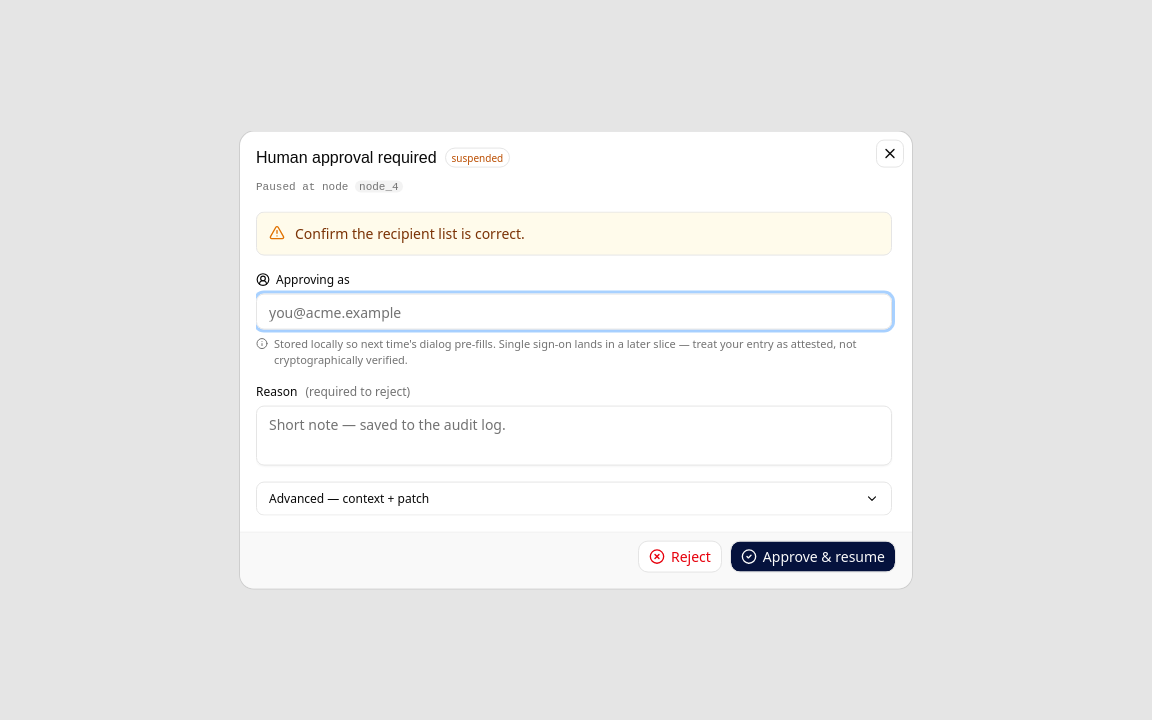
Scenario: HITLResumeDialog › blocks approve with an empty approver + inline error
Click the button "Approve & resume".
click(813, 556)  # box [730, 540, 896, 572]
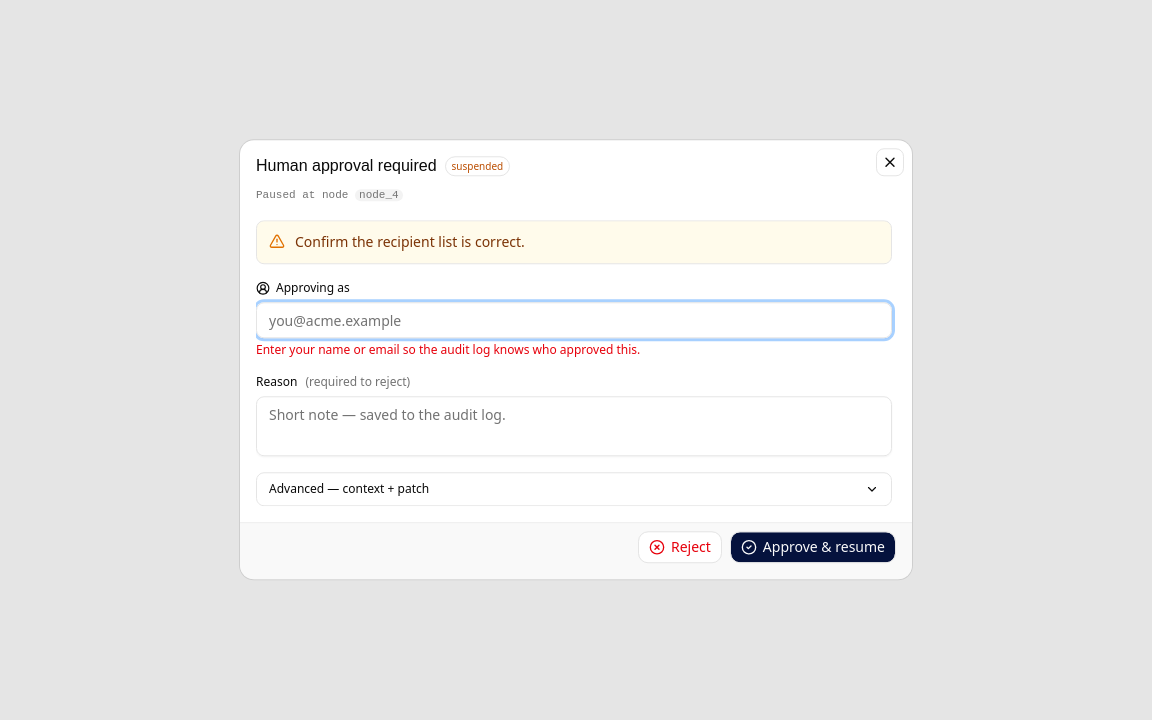
Check: the text "Enter your name" is shown, box [256, 342, 640, 359]
